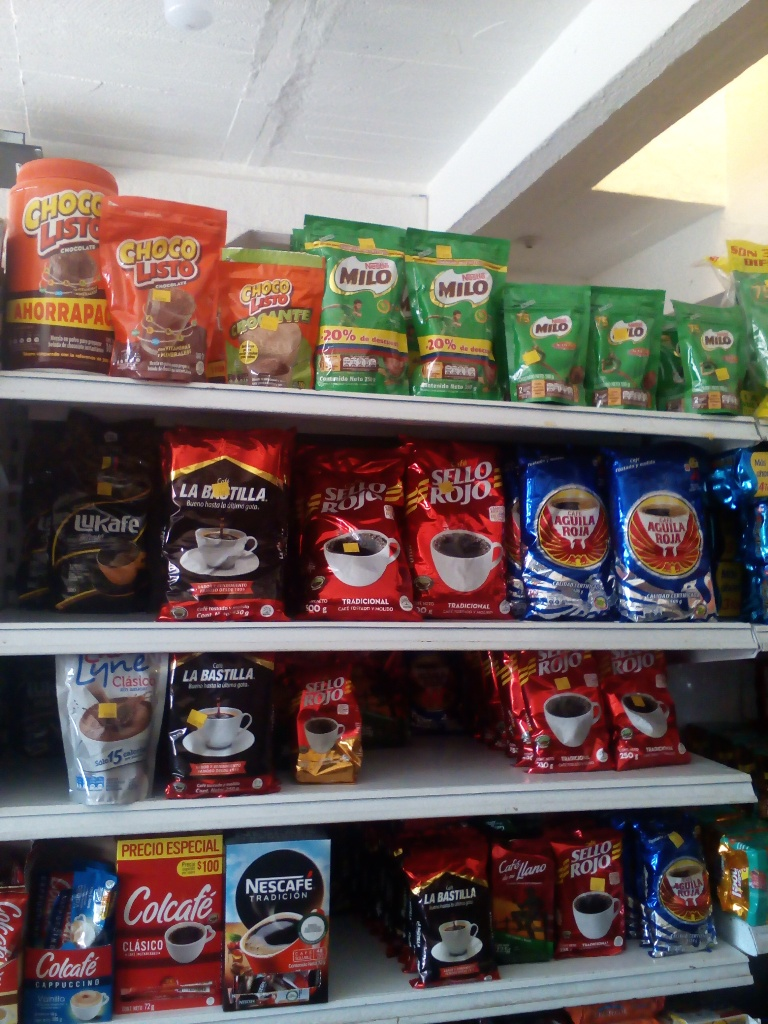COL0170102DYP10000: (216, 246, 323, 395)
COL0170103DYP20000: (99, 191, 222, 384)
COL0170103TRR00100: (3, 158, 119, 371)
COL0170203DYP10000: (497, 281, 592, 406)
COL0170203DYP25000: (304, 214, 412, 394)
